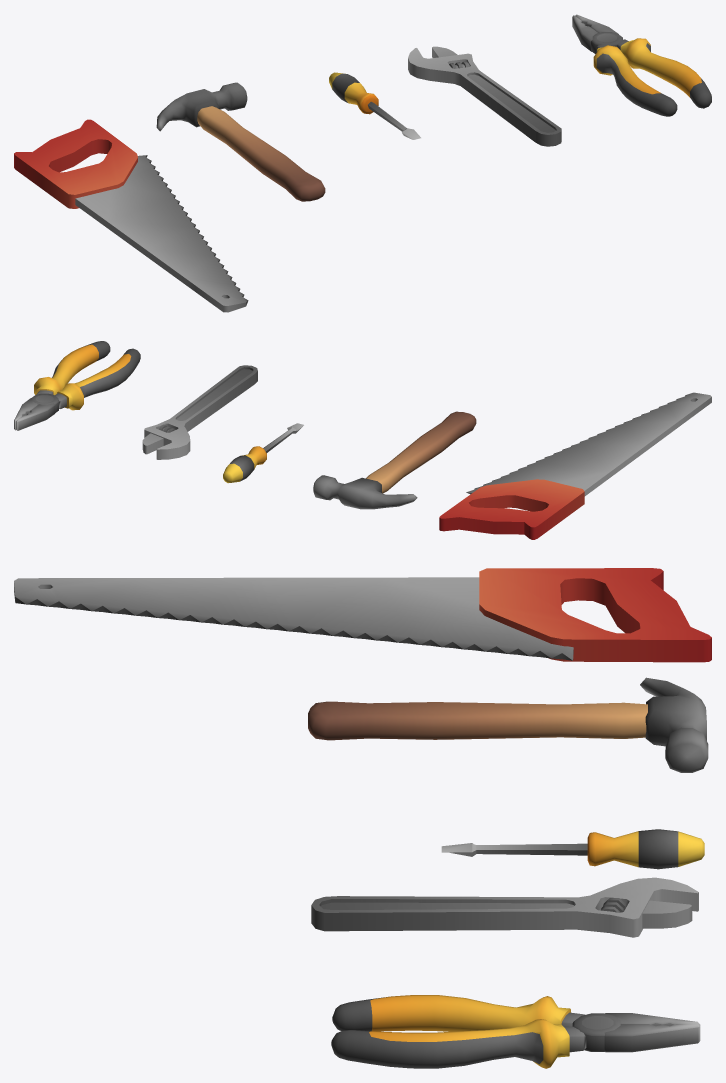
The model's file is Tools.fbx.
The picture shows the model from 3 angles, top to bottom: view 1: azimuth 30°, elevation 25°; view 2: azimuth 150°, elevation 25°; view 3: azimuth 270°, elevation 25°; orthographic projection. The views are drawn at different scales.
Visible parts, largest first — view 1: Plane.003, Plane.002, Cube, Plane.001, Cylinder.003, Cylinder.004, Cylinder; view 2: Plane.003, Plane.002, Cube, Plane.001, Cylinder.003, Cylinder.004, Cylinder, Cube.001; view 3: Plane.003, Cube, Plane.002, Plane.001, Cylinder.003, Cylinder.004, Cylinder, Cylinder.001, Cube.001.
Part boxes in pixels (x1,y1,x2,y2): Plane.003: [75, 155, 248, 312]; Plane.002: [14, 119, 137, 208]; Cube: [156, 82, 325, 201]; Plane.001: [408, 48, 561, 146]; Cylinder.003: [575, 14, 677, 116]; Cylinder.004: [572, 15, 711, 108]; Cylinder: [329, 72, 378, 114]; Plane.003: [466, 392, 711, 496]; Plane.002: [439, 479, 584, 539]; Cube: [313, 411, 476, 509]; Plane.001: [144, 365, 257, 459]; Cylinder.003: [14, 348, 140, 430]; Cylinder.004: [16, 341, 110, 430]; Cylinder: [223, 446, 266, 483]; Cube.001: [142, 433, 163, 454]; Plane.003: [14, 577, 573, 660]; Cube: [308, 677, 708, 772]; Plane.002: [479, 568, 711, 662]; Plane.001: [311, 877, 698, 937]; Cylinder.003: [332, 995, 700, 1052]; Cylinder.004: [331, 1013, 700, 1068]; Cylinder: [587, 829, 704, 869]; Cylinder.001: [441, 843, 587, 856]; Cube.001: [642, 900, 692, 928].
Bounding box in the file's own units: 290 × 16.88 × 184.
